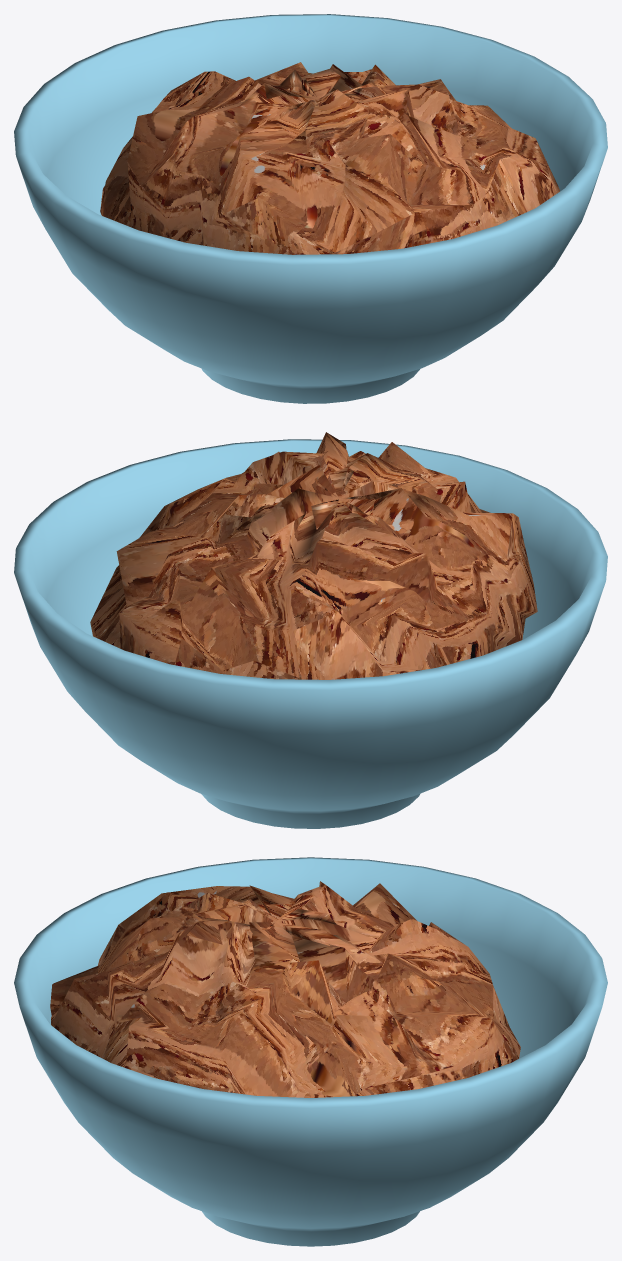
Rendered from Bowl of Flakes.fbx.
3 renders of one model, top to bottom at view 1: azimuth 30°, elevation 25°; view 2: azimuth 150°, elevation 25°; view 3: azimuth 270°, elevation 25°, orthographic.
Visible parts, largest first — view 1: Bowl of Flakes; view 2: Bowl of Flakes; view 3: Bowl of Flakes.
Part boxes in pixels (x1=…): Bowl of Flakes: x1=14, y1=14, x2=607, y2=403; Bowl of Flakes: x1=14, y1=432, x2=607, y2=828; Bowl of Flakes: x1=14, y1=857, x2=607, y2=1246.
Bounding box in the file's own units: 44.24 × 24.41 × 44.24.
